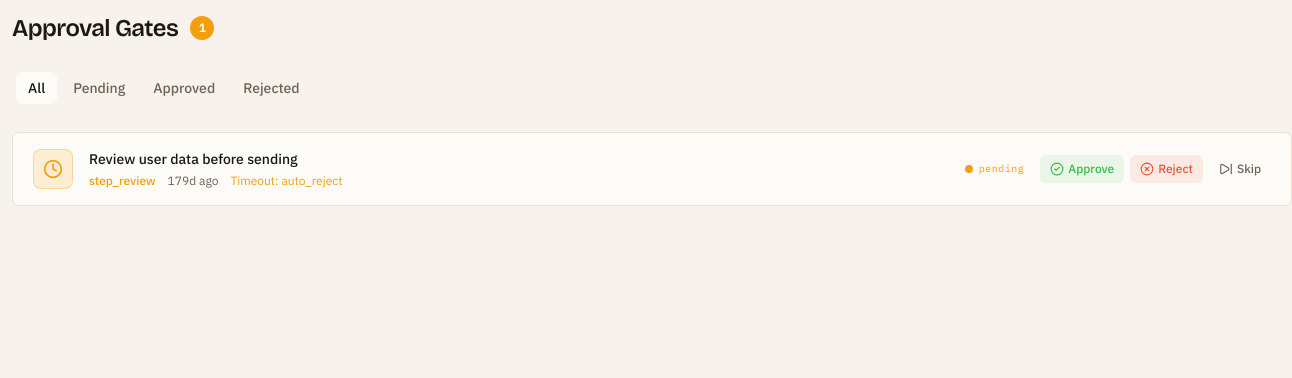
Test: ApprovalsPage › expands/collapses approval details on click
Expected: the text "Review user data before sending" is shown, x1=89 y1=150 x2=298 y2=168
Expected: the text "Request Data" is not shown
Click to expand
Click the button with aria-label "expand details" at (53, 169), box x1=33 y1=149 x2=1271 y2=189
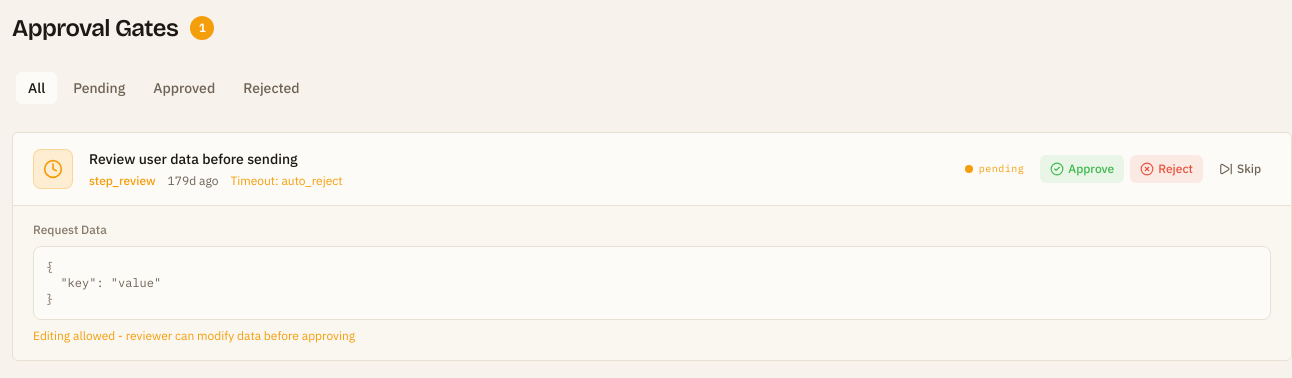
Expected: the text "Request Data" is shown, x1=33 y1=222 x2=107 y2=237
Expected: the text "Editing allowed - reviewer can modify data before approving" is shown, x1=33 y1=328 x2=355 y2=343
Click again to collapse
Click the button with aria-label "collapse details" at (53, 169), box x1=33 y1=149 x2=1271 y2=189
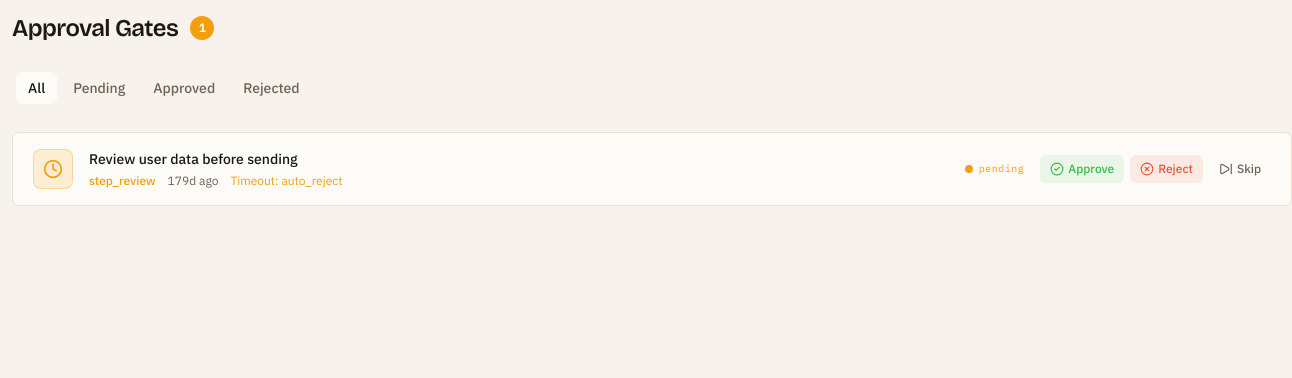
Expected: the text "Request Data" is gone
